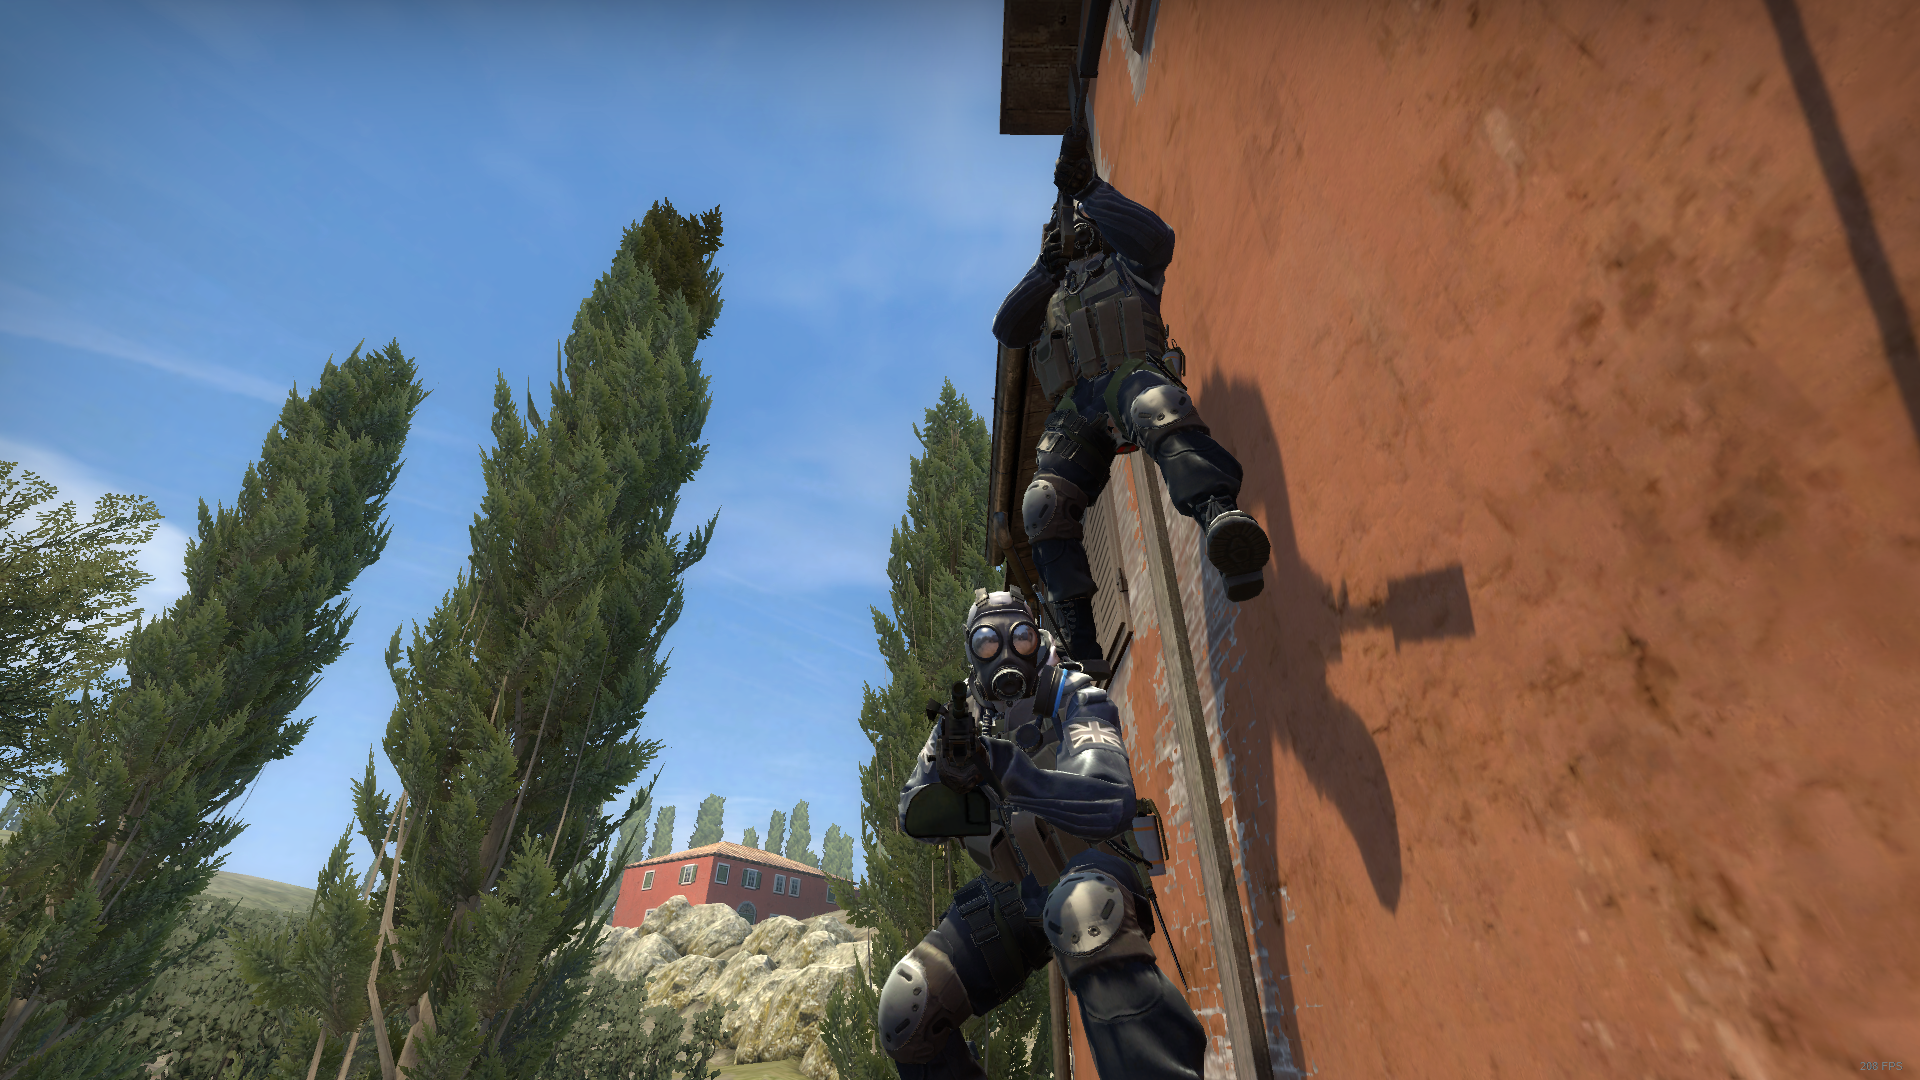ct: (866, 588, 1215, 1080), (975, 182, 1311, 669)
